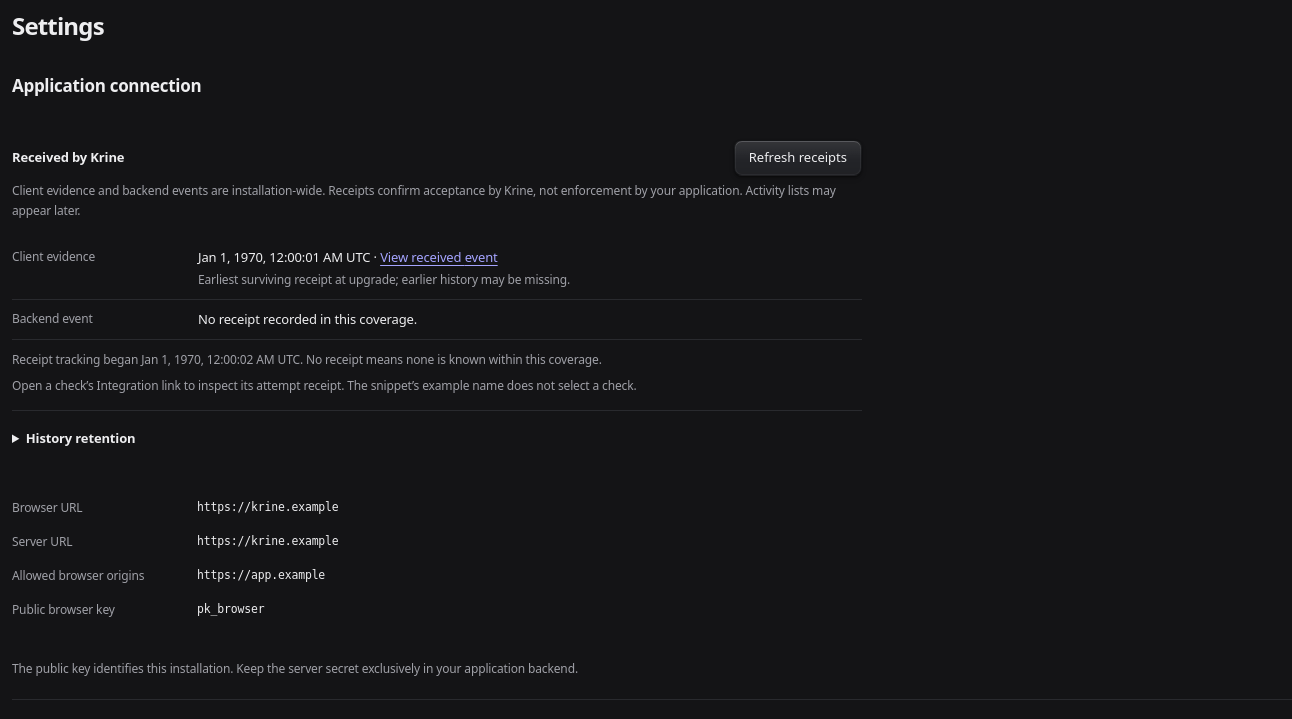
Test: shows global receipts, honest upgrade coverage and no attempt for the snippet's default name
Check: the text "Earliest surviving receipt at upgrade" is shown, box [198,271,570,288]
Check: the text "No receipt recorded in this coverage." is shown, box [198,310,417,328]
Click the heading "History retention". click: (81, 438)
box: [26,429,136,447]
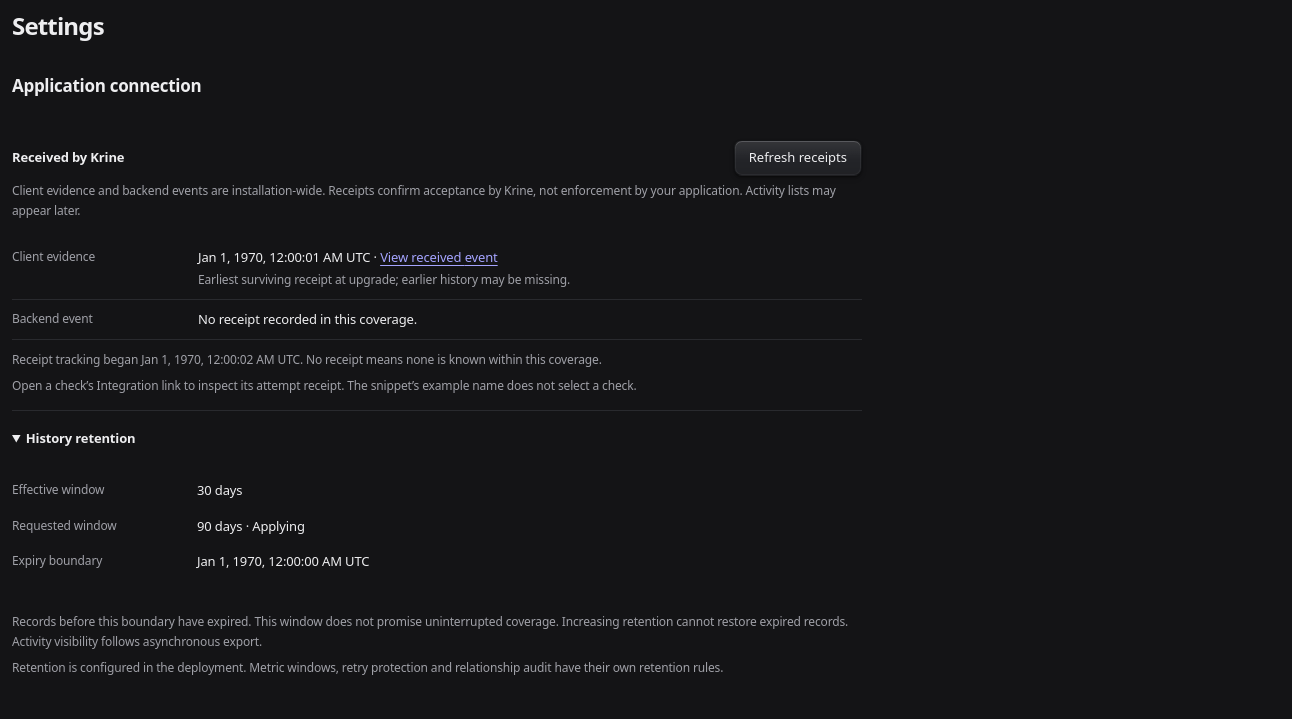
Check: the text "90 days · Applying" is shown, box [197,517,305,535]
Check: the text "does not promise uninterrupted coverage" is shown, box [12,613,848,650]
